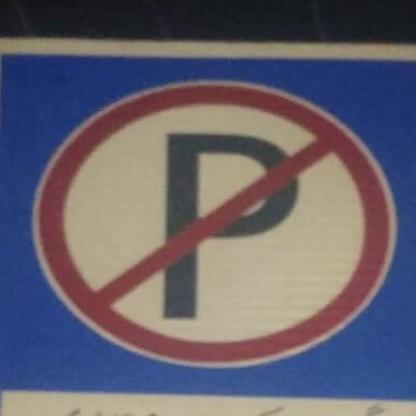No Parking: (3, 39, 416, 414)
